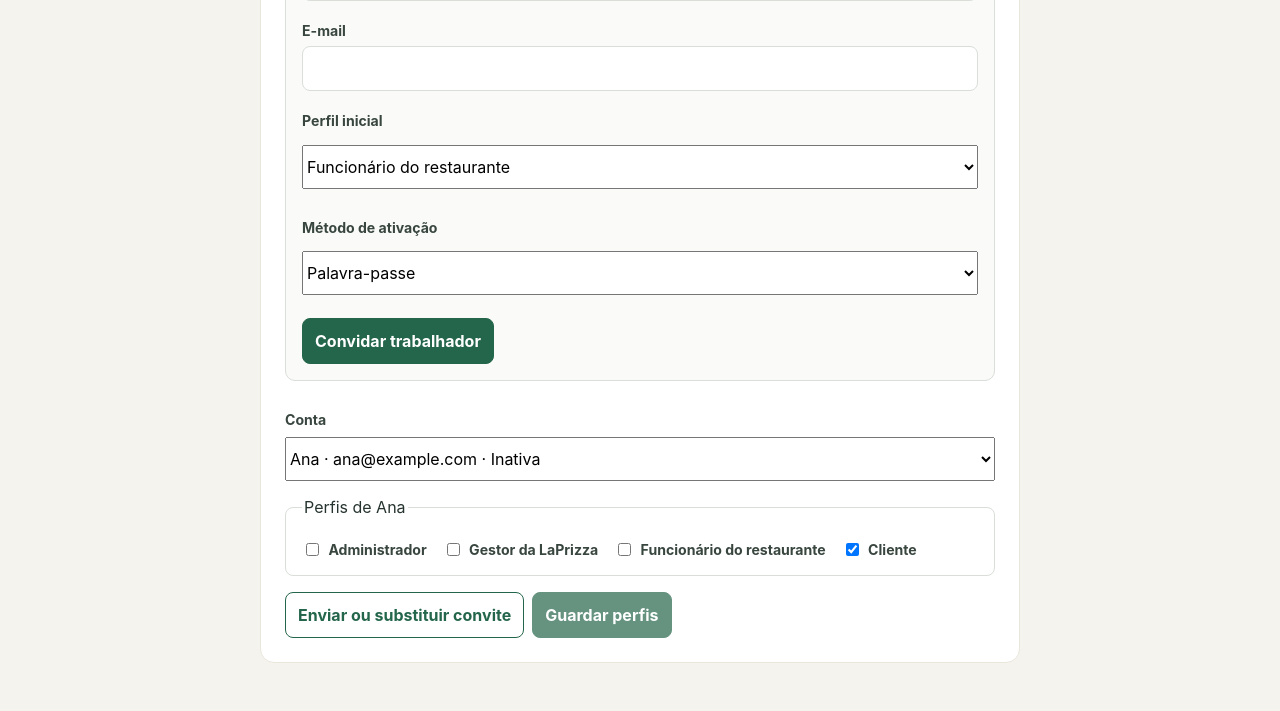
Test: allows an explicit retry only after a retryable invitation failure
The width and height of the screenshot is (1280, 711).
(page scrolled)
Click the button "Enviar ou substituir convite" at (405, 616), box [285, 592, 524, 638]
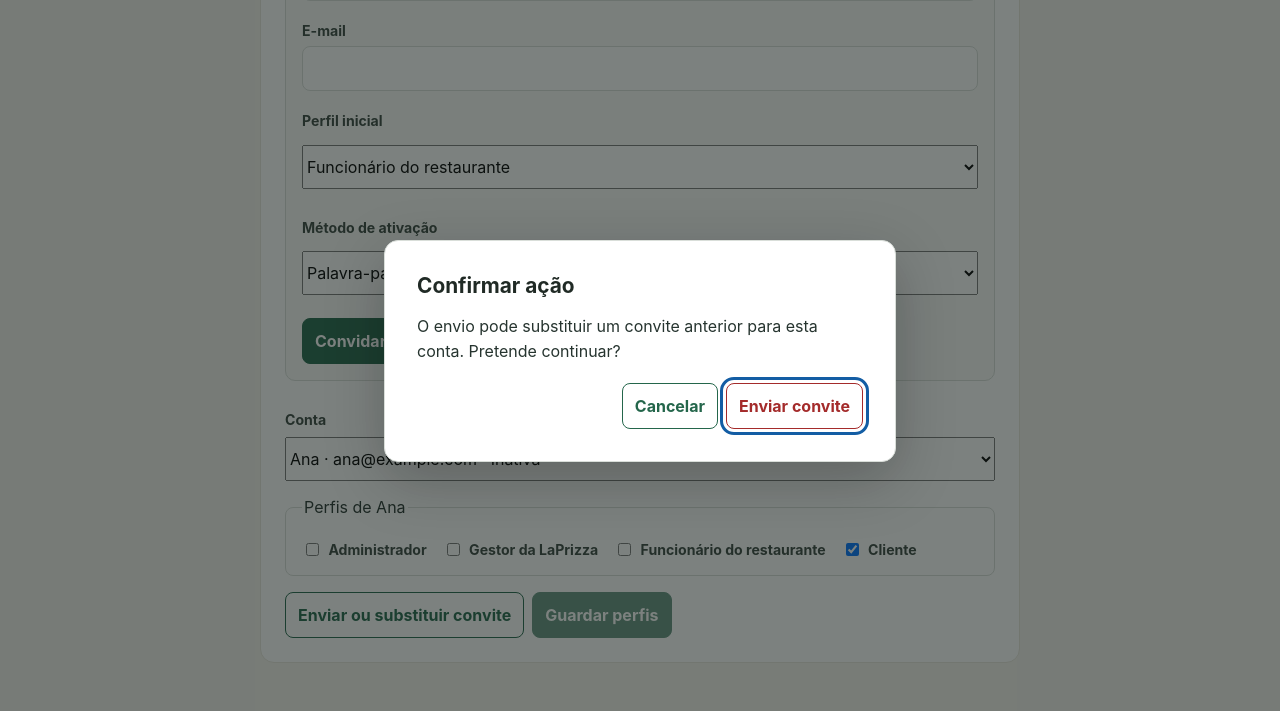
Click the button with class "button--danger" at (794, 406), box [726, 383, 863, 429]
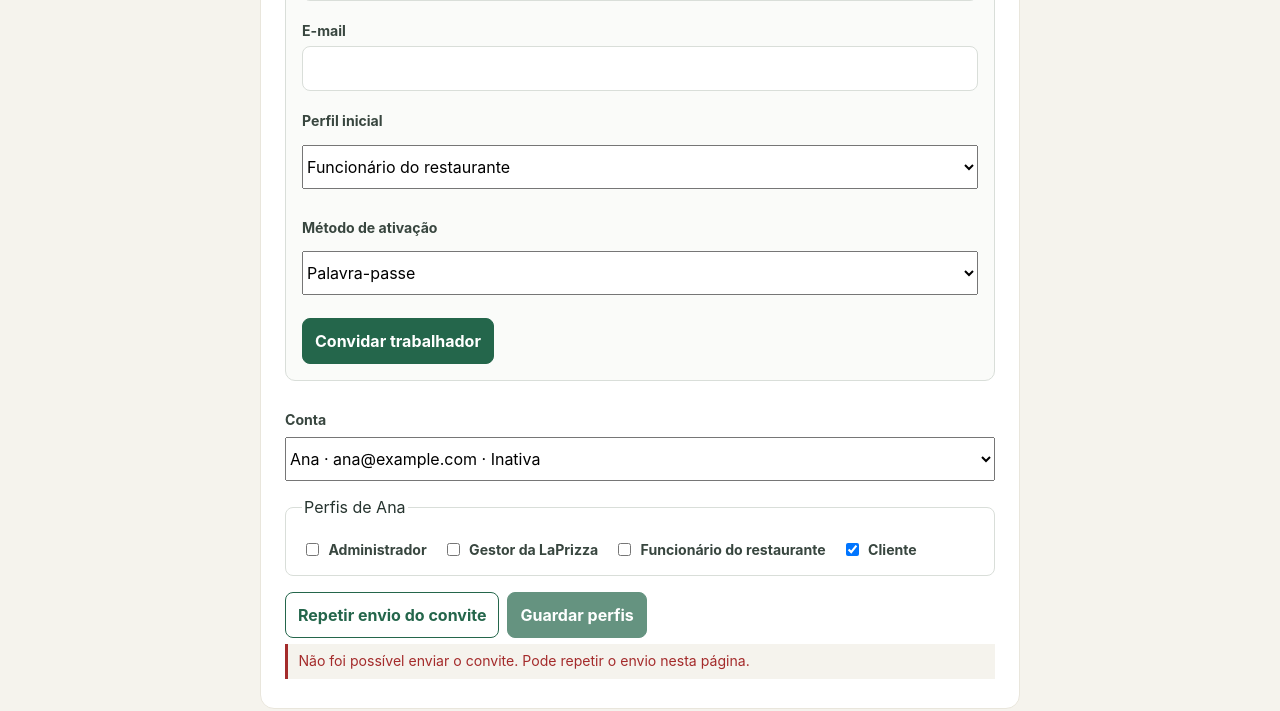
Expected: the text "Pode repetir o envio" is shown, [298, 652, 750, 669]
Click the button "Repetir envio do convite" at (392, 616), box [285, 592, 500, 638]
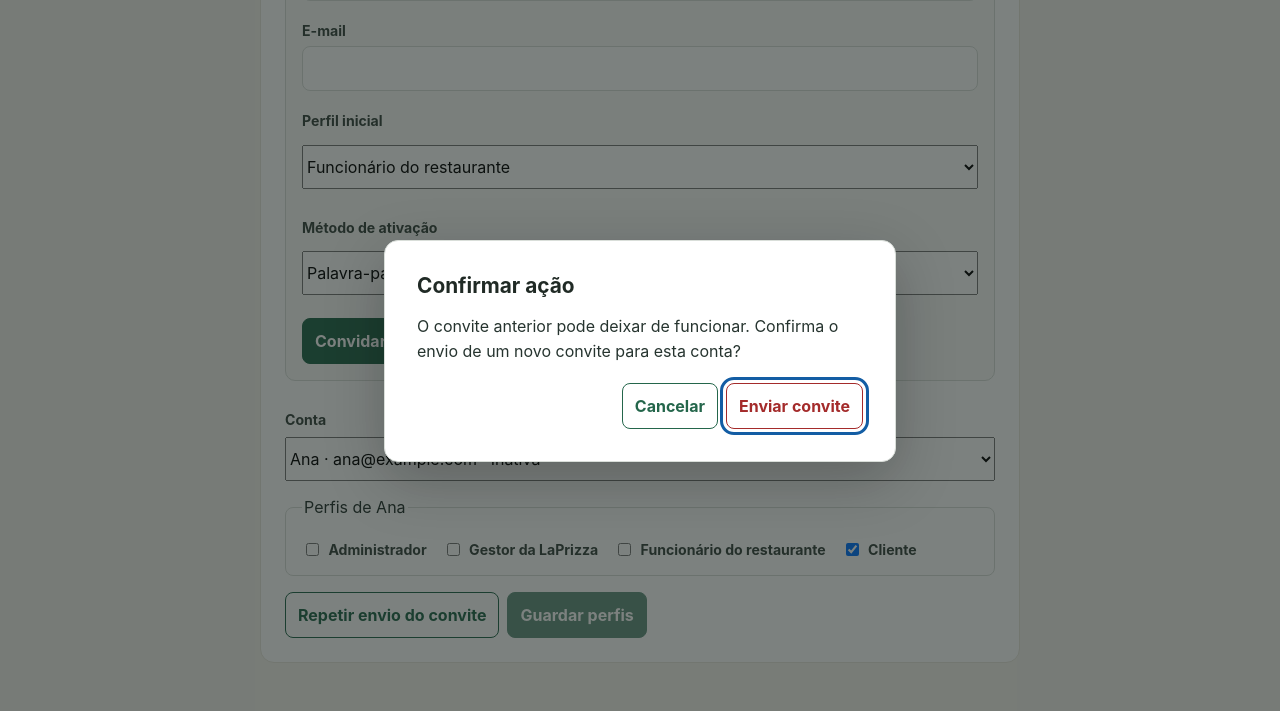
Expected: the text "convite anterior pode deixar de funcionar" is shown, [417, 316, 838, 360]
Click the button with class "button--danger" at (794, 406), box [726, 383, 863, 429]
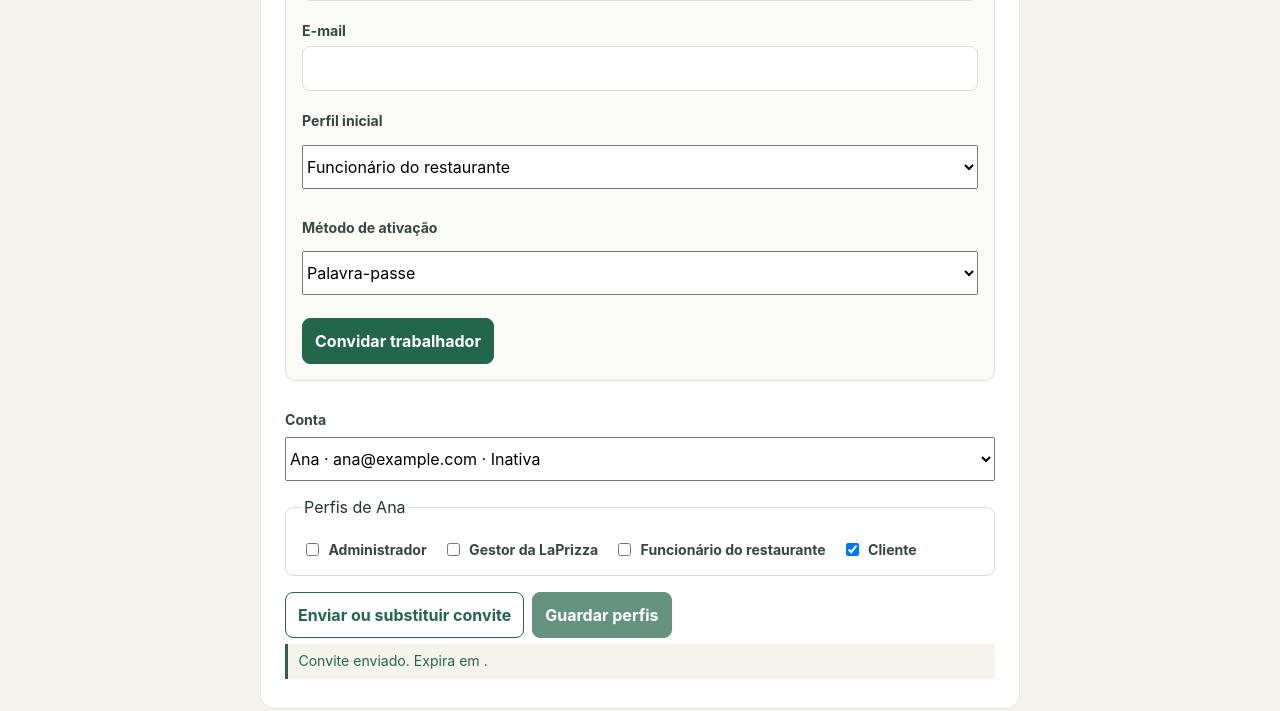
Expected: the text "Convite enviado." is shown, [298, 652, 488, 669]
